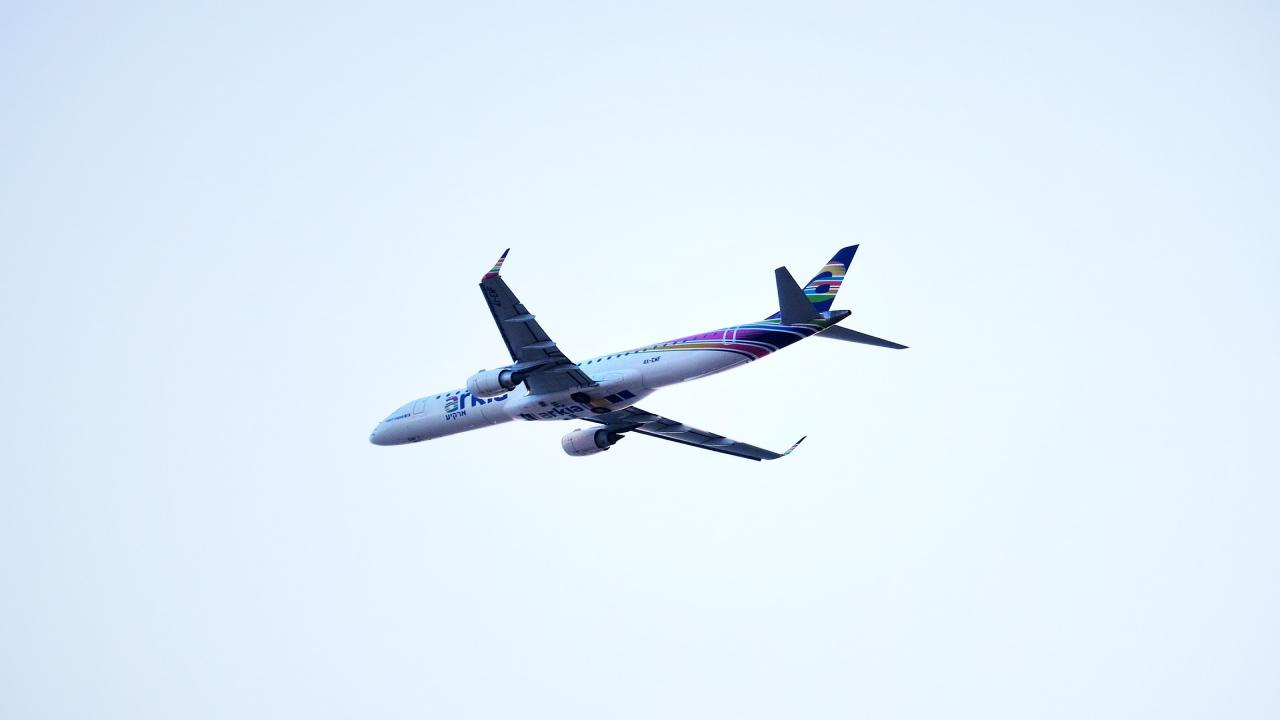Airplane: (354, 223, 932, 479)
